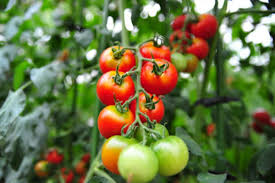tomato: (94, 70, 137, 107), (138, 59, 176, 95), (132, 91, 166, 125), (98, 105, 132, 138), (100, 46, 135, 76), (139, 40, 172, 66)
